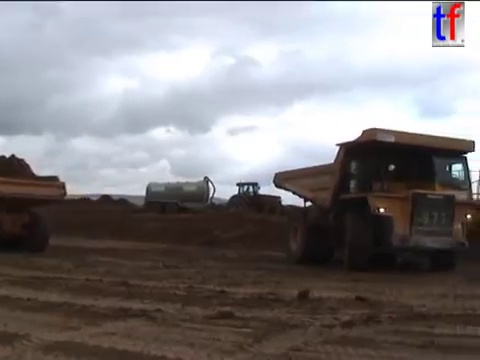truck: (271, 125, 480, 274), (141, 175, 285, 217), (1, 169, 69, 256)
